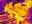Hotspot: (2, 0, 31, 23)
